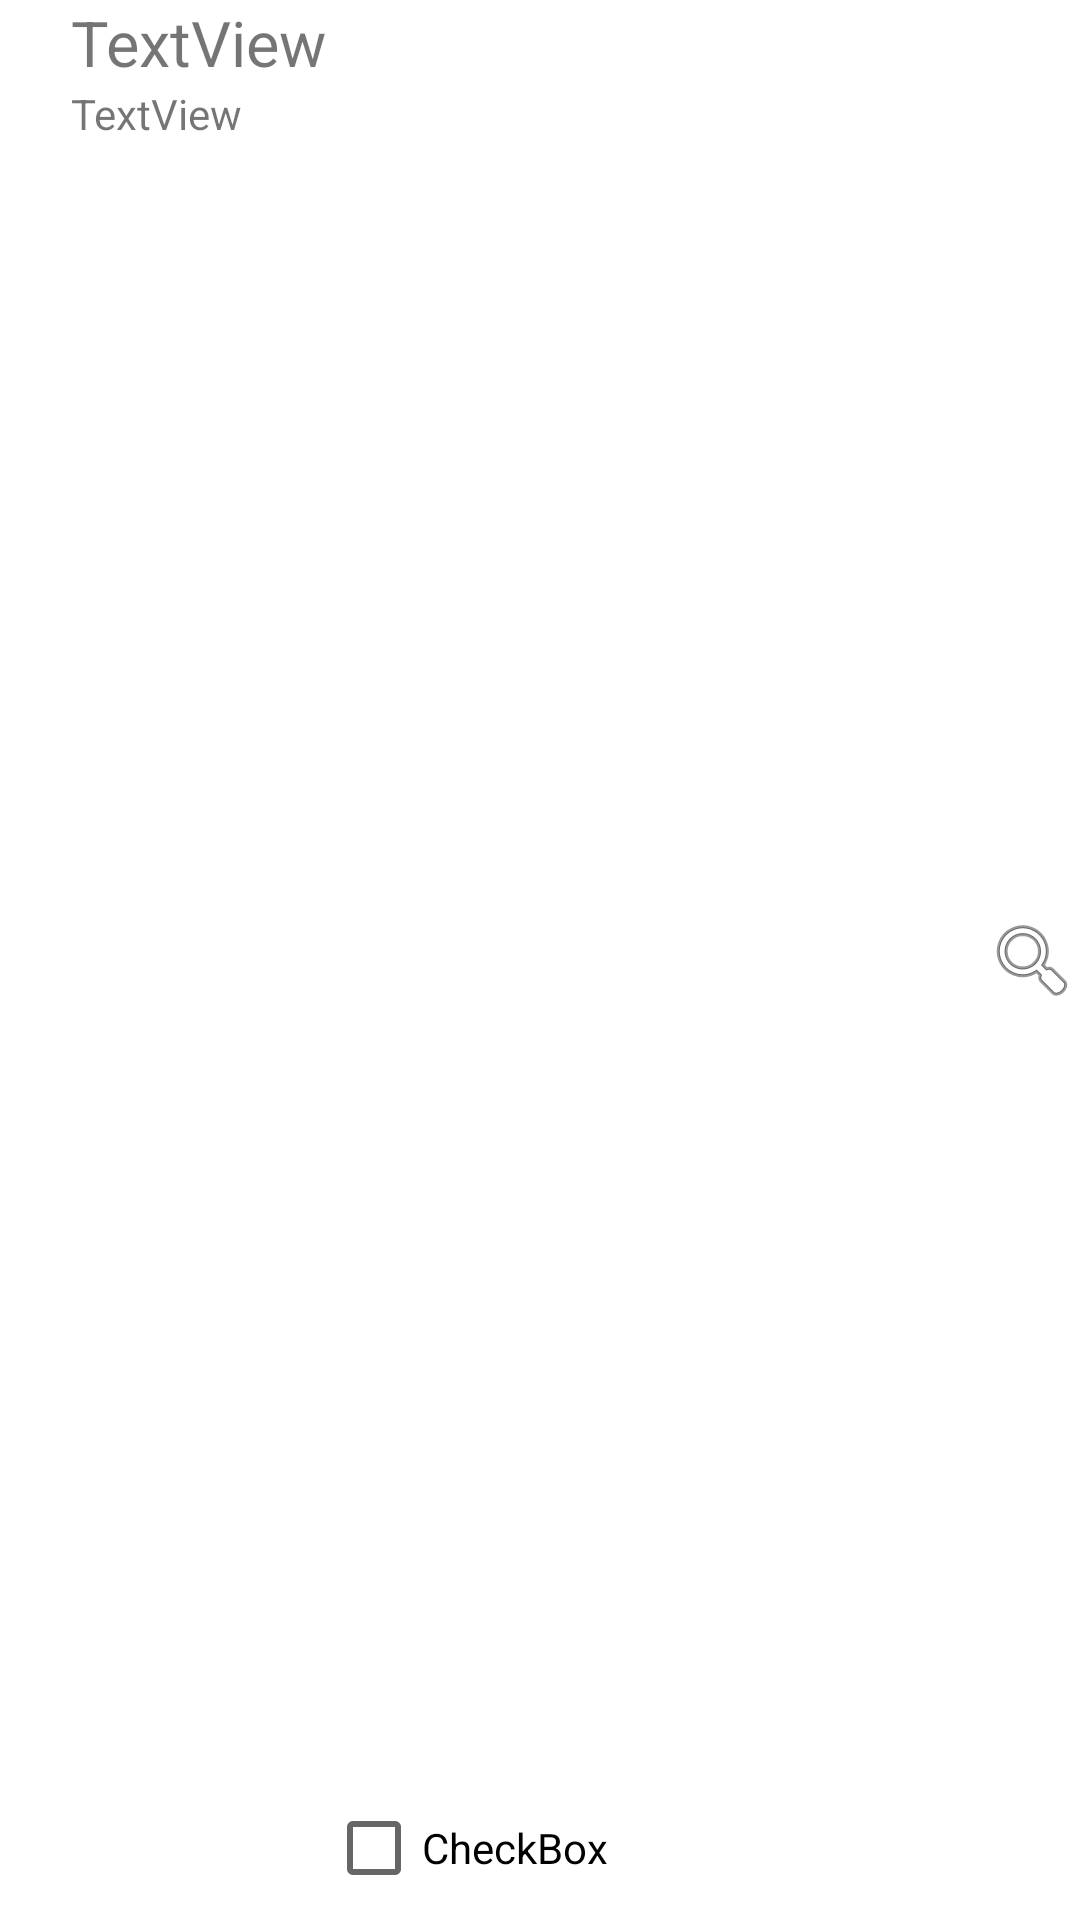

Named icons in this screenshot (1080x1920) and their centers, point (x, y):
search: point (1032, 960)
